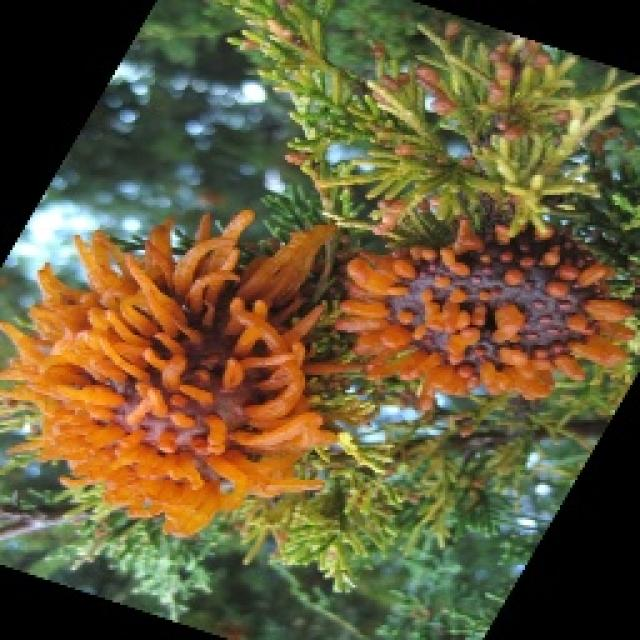Gymnosporangium_Rusts: (0, 177, 638, 485)
